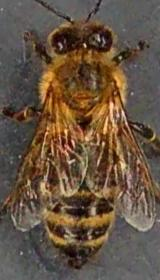varroa_mite: (38, 126, 82, 158)
